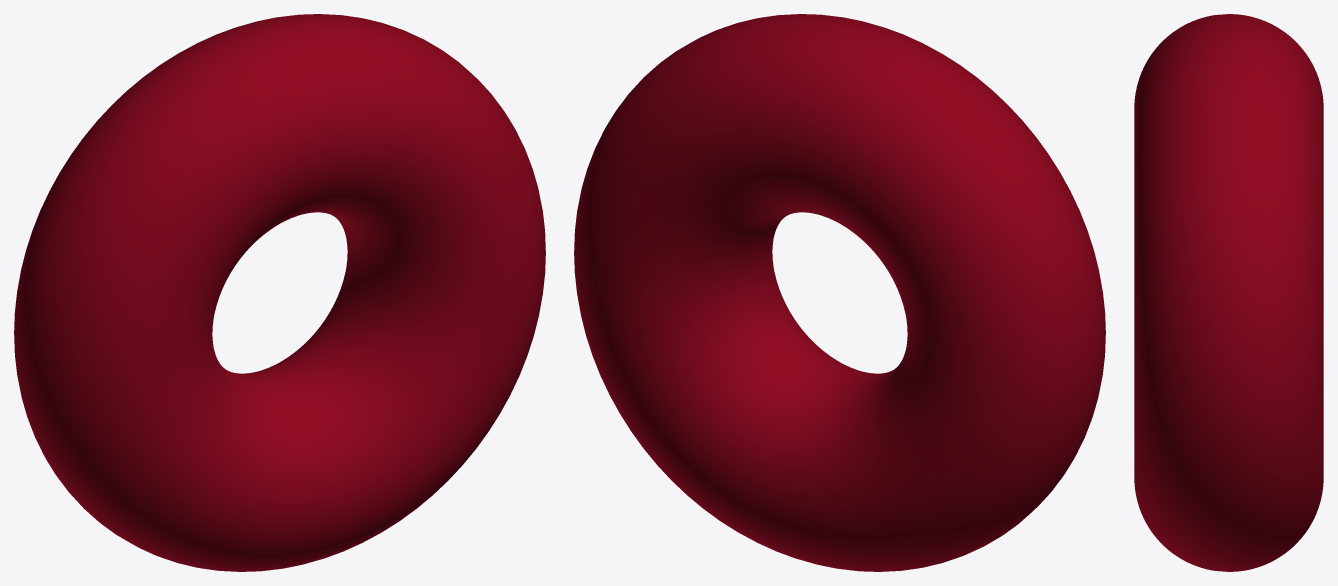
Rendered from zero.fbx.
3 views of the same model, side by side, from view 1: azimuth 30°, elevation 25°; view 2: azimuth 150°, elevation 25°; view 3: azimuth 270°, elevation 25° (orthographic). The views are drawn at different scales.
Visible parts, largest first — view 1: root; view 2: root; view 3: root.
Part boxes in pixels (box(x1,y1,x2,y2)): root: box(14, 14, 545, 571); root: box(574, 14, 1105, 571); root: box(1134, 14, 1323, 571).
Size of the model in its own units: 0.3918 by 0.3927 by 0.1332.
Materials: 1 (1 with a texture image).
